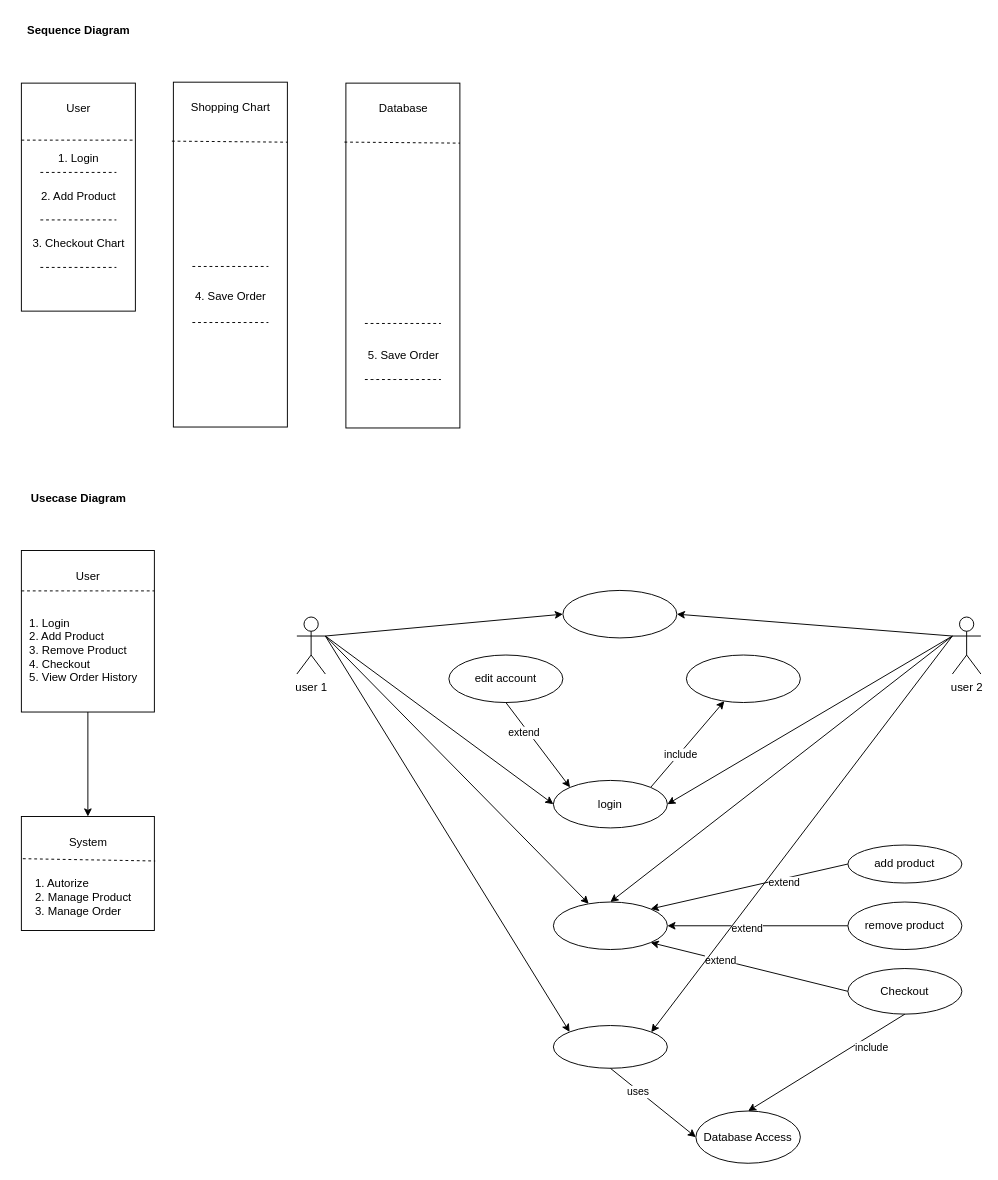
The diagram is 998 pixels wide and 1180 high, and some of its shapes have lost their labels. Here are the shapes that lost their labels. From the top down, the box of each, then its label:
(562, 589, 677, 638): CHAT
(685, 654, 800, 703): created account
(552, 901, 667, 950): Create Or Modify Product
(552, 1025, 667, 1068): View Order Hystory
